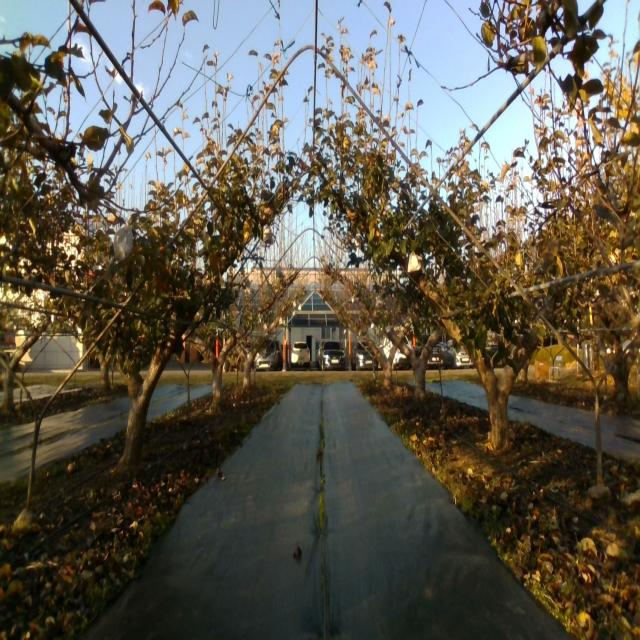pearbags: (115, 222, 134, 260), (407, 251, 420, 273), (264, 227, 274, 246)
